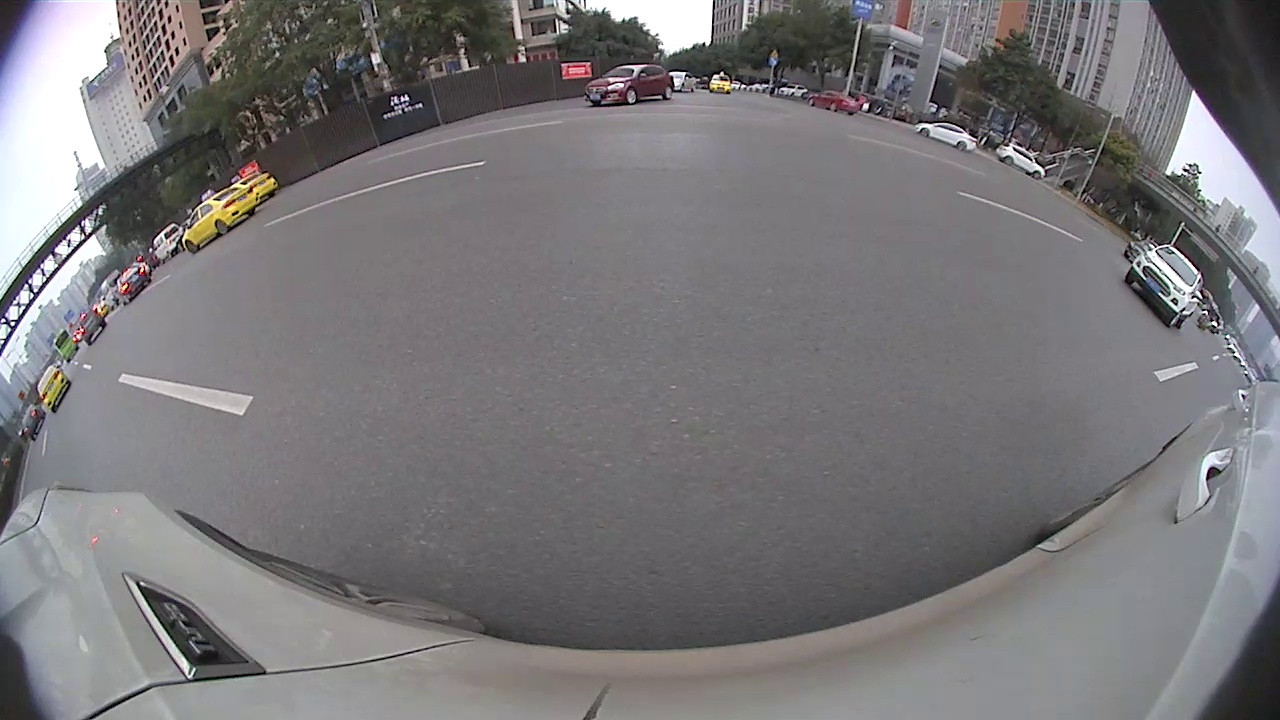car: (1124, 244, 1204, 331), (181, 185, 261, 254), (583, 63, 673, 108), (993, 140, 1048, 181), (915, 122, 978, 155), (36, 363, 73, 412), (807, 90, 862, 116), (231, 171, 279, 200)
front: (625, 90, 638, 103), (185, 242, 197, 253), (920, 128, 928, 138), (1035, 172, 1042, 179)
rear: (217, 221, 224, 235), (665, 88, 674, 98), (1003, 155, 1012, 164), (957, 142, 966, 150)
